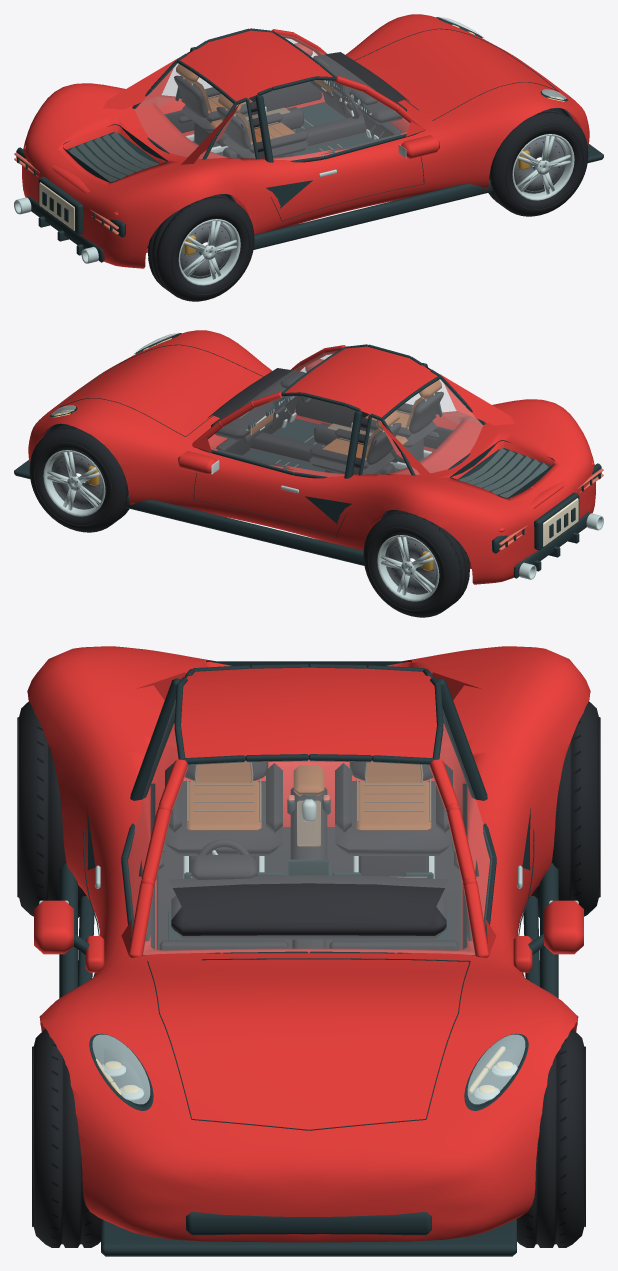
The model's file is racer.glb.
The picture shows the model from 3 angles, top to bottom: view 1: azimuth 30°, elevation 25°; view 2: azimuth 150°, elevation 25°; view 3: azimuth 270°, elevation 25°; orthographic projection. The views are drawn at different scales.
Visible parts, largest first — view 1: Paint racer, Rolling wheels, Automotive glass, Tyre rubber, Cabin upholstery, Pickup bed, Tailored cabin leather, Wheel hubs, Warm white trim, Seat stitching and console; view 2: Paint racer, Rolling wheels, Automotive glass, Tyre rubber, Cabin upholstery, Pickup bed, Tailored cabin leather, Wheel hubs, Warm white trim, Seat stitching and console; view 3: Paint racer, Automotive glass, Cabin upholstery, Tyre rubber, Rolling wheels, Tailored cabin leather, Lamp crystal, Seat stitching and console, Wheel hubs, Headlamp.
Part boxes in pixels (box(x1,y1,x2,y2)): Paint racer: box(22, 14, 589, 268); Rolling wheels: box(148, 108, 588, 301); Automotive glass: box(135, 35, 409, 160); Tyre rubber: box(16, 17, 603, 262); Cabin upholstery: box(164, 52, 410, 158); Pickup bed: box(69, 132, 159, 181); Tailored cabin leather: box(176, 64, 336, 144); Wheel hubs: box(14, 26, 564, 263); Warm white trim: box(39, 95, 359, 230); Seat stitching and console: box(201, 59, 378, 151); Paint racer: box(28, 330, 595, 584); Rolling wheels: box(29, 424, 469, 617); Automotive glass: box(208, 351, 482, 476); Tyre rubber: box(14, 333, 601, 578); Cabin upholstery: box(208, 368, 453, 474); Pickup bed: box(458, 448, 548, 497); Tailored cabin leather: box(250, 380, 441, 460); Wheel hubs: box(53, 342, 603, 579); Warm white trim: box(543, 498, 578, 546); Seat stitching and console: box(239, 400, 416, 467); Paint racer: box(27, 646, 590, 1242); Automotive glass: box(126, 700, 491, 954); Cabin upholstery: box(139, 722, 478, 950); Tyre rubber: box(59, 660, 558, 1256); Rolling wheels: box(17, 701, 600, 1247); Tailored cabin leather: box(186, 761, 431, 830); Lamp crystal: box(92, 1034, 525, 1104); Seat stitching and console: box(186, 762, 431, 877); Wheel hubs: box(95, 799, 522, 1100); Headlamp: box(96, 1046, 513, 1095).
Bounding box in the file's own units: 1.98 × 0.6153 × 0.9956.
